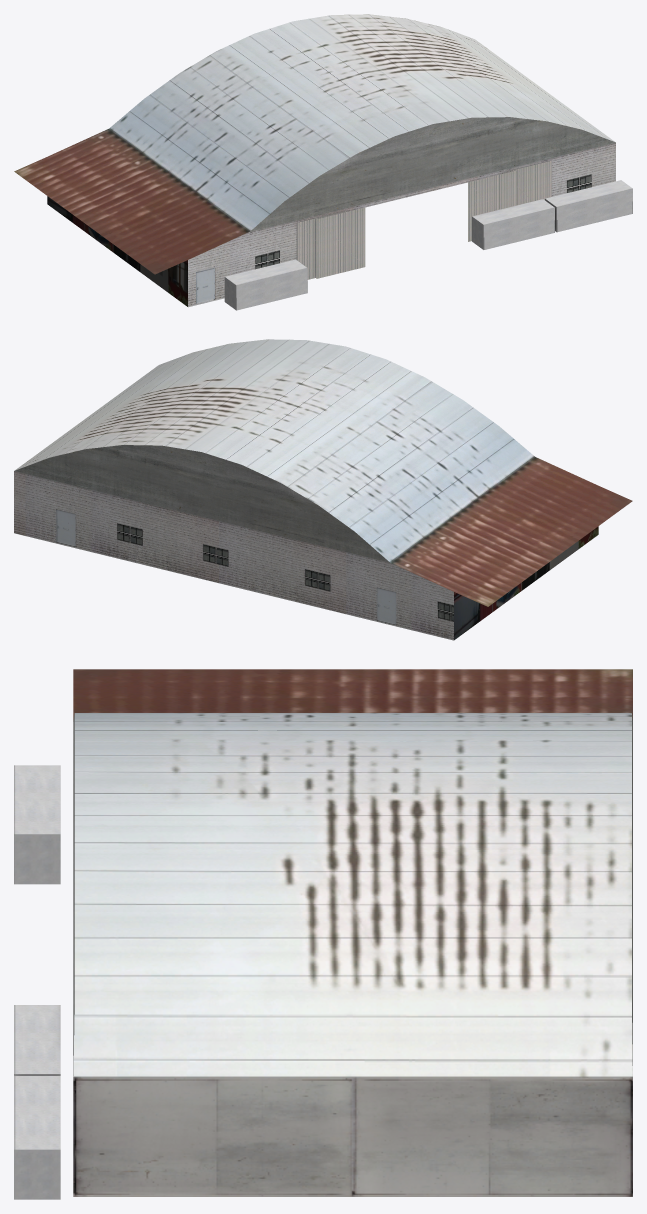
The model's file is HANGARZIM.gltf.
The picture shows the model from 3 angles, top to bottom: view 1: azimuth 30°, elevation 25°; view 2: azimuth 150°, elevation 25°; view 3: azimuth 270°, elevation 25°; orthographic projection. The views are drawn at different scales.
Visible parts, largest first — view 1: node1; view 2: node1; view 3: node1.
Part boxes in pixels (x1,y1,x2,y2): node1: (14,14,632,310); node1: (14,339,632,640); node1: (14,669,632,1199).
Size of the model in its own units: 45.55 by 11.69 by 26.55.
